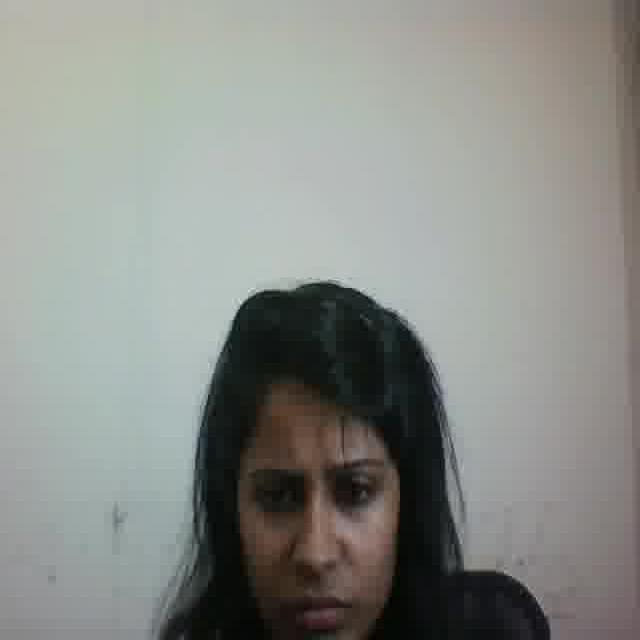Confusion: (232, 386, 394, 640)
